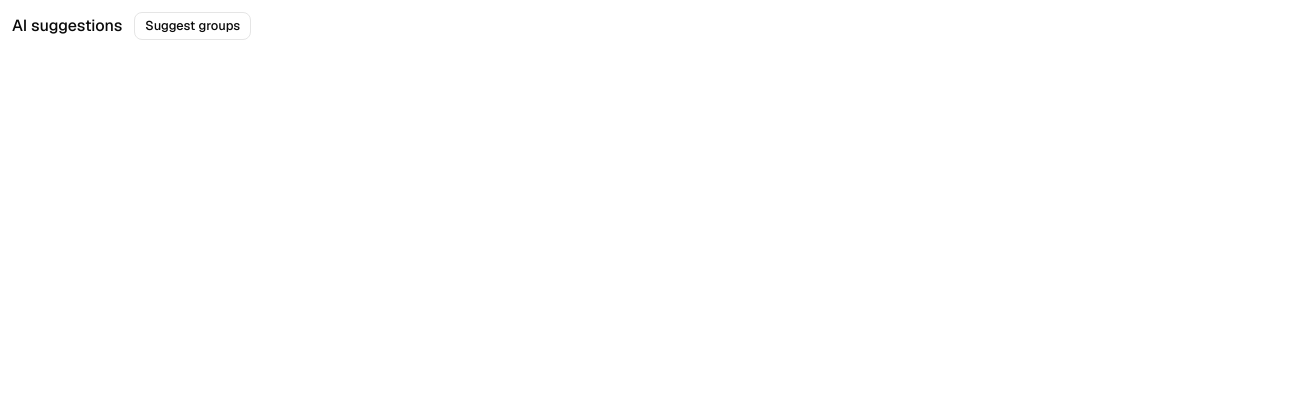
TriagePanel › asks for suggestions, waits while the run is under way, and shows the groups and order
Later steps or results of the test are not shown.
What coordinates should you click on to do the following:
click the button "Suggest groups"
I would click on:
 (193, 26)
Its box is [134, 12, 251, 40].
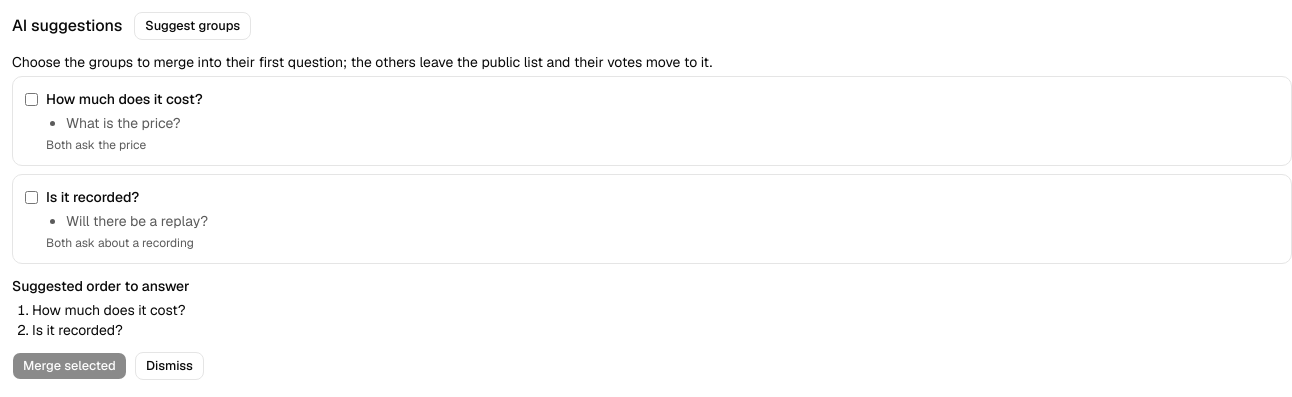
Now the number of checkboxes is 2, box [25, 93, 38, 106]; [25, 191, 38, 204]
Now the list item "What is the price?" is shown, box [66, 114, 180, 132]
Now the text "Both ask the price" is shown, box [46, 137, 146, 153]
